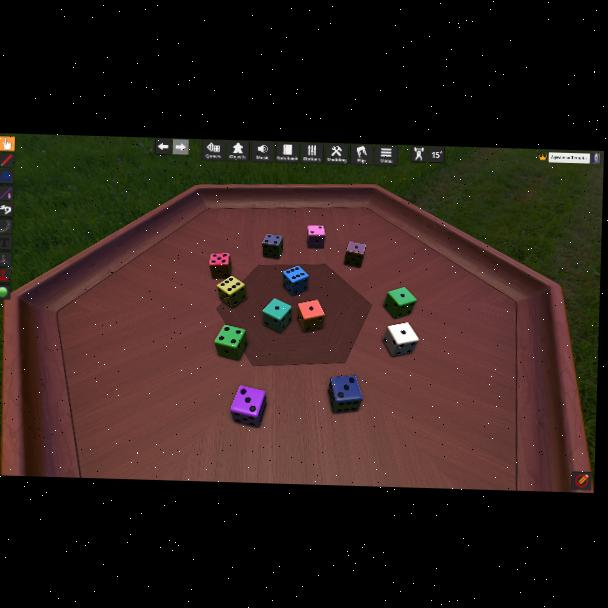d6: (229, 385, 267, 428), (327, 374, 362, 414), (383, 322, 418, 358), (214, 325, 248, 361), (261, 298, 292, 333), (216, 276, 248, 309), (383, 287, 414, 320), (295, 300, 324, 333), (281, 265, 309, 297), (209, 252, 234, 280), (343, 242, 366, 269), (261, 234, 283, 260), (306, 224, 326, 249)
